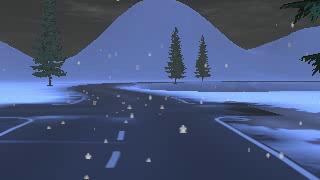Lane: (0, 82, 313, 179)
